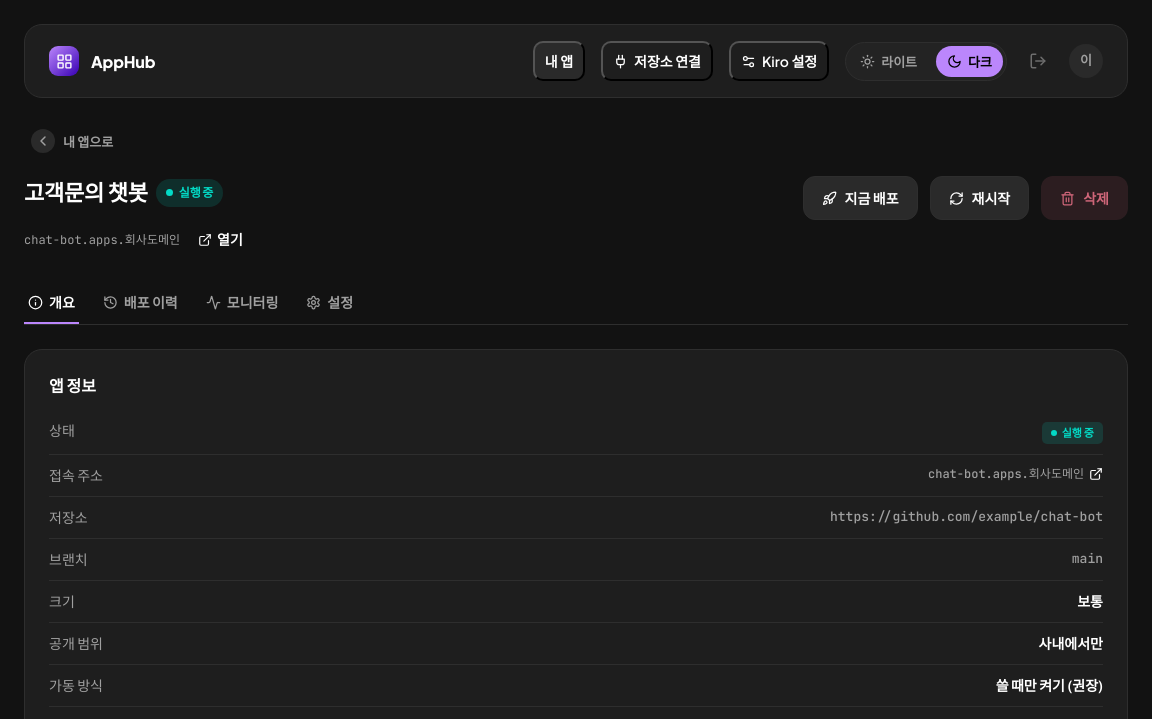
Scenario: 앱 상세 — 탭 재편(개요·배포 이력·모니터링·설정) › 데이터가 없으면 '잠자는 중이거나 아직 데이터가 없어요' 안내를 보여준다
Expected: the heading "고객문의 챗봇 실행 중" is shown, [24, 176, 253, 209]
Click the tab "모니터링" at [242, 303], box [202, 282, 282, 324]
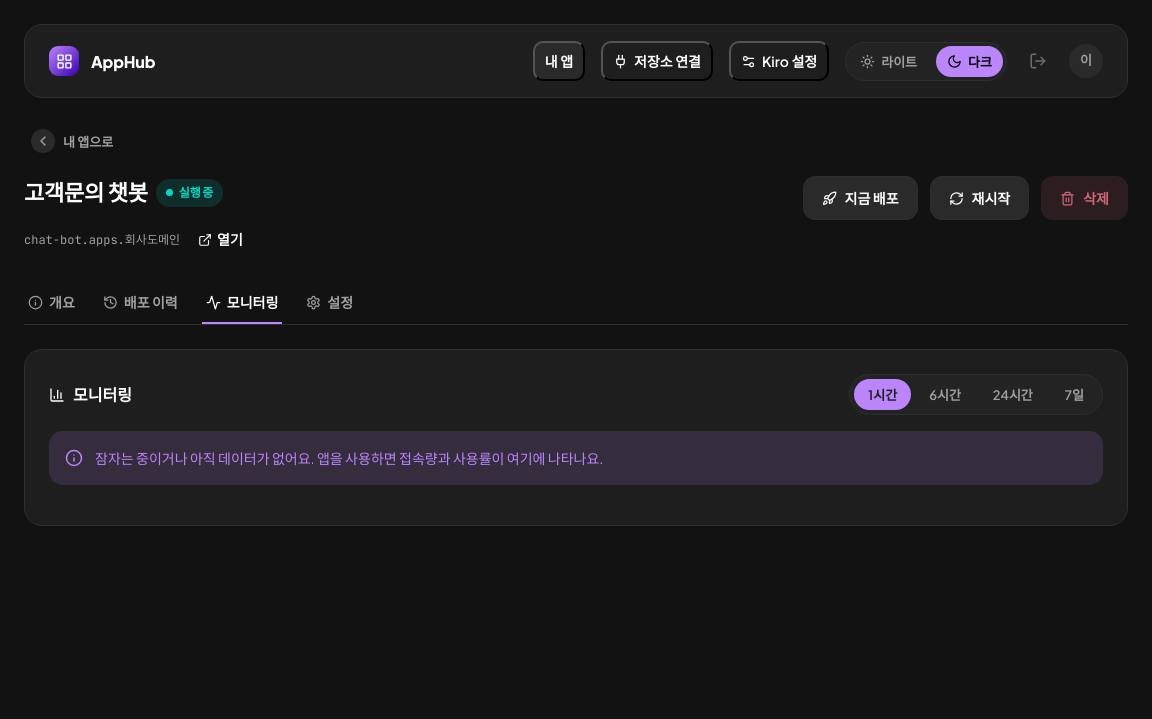
Expected: the text "잠자는 중이거나 아직 데이터가 없어요. 앱을 사용하면 접속량과 사용률이 여기에 나타나요." is shown, [95, 447, 603, 469]
